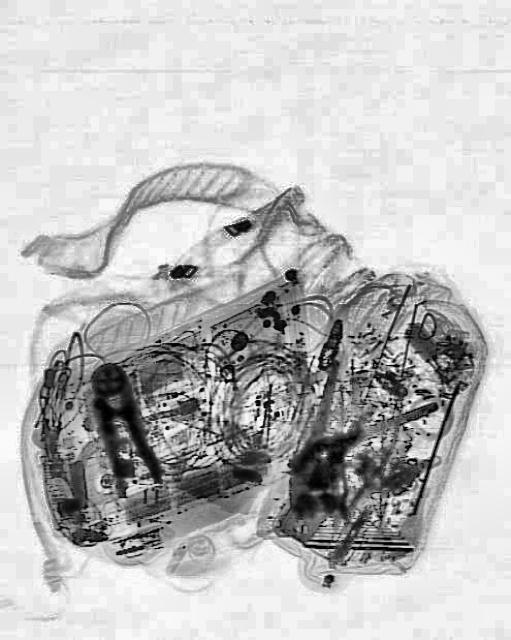Pliers: (78, 355, 162, 495)
